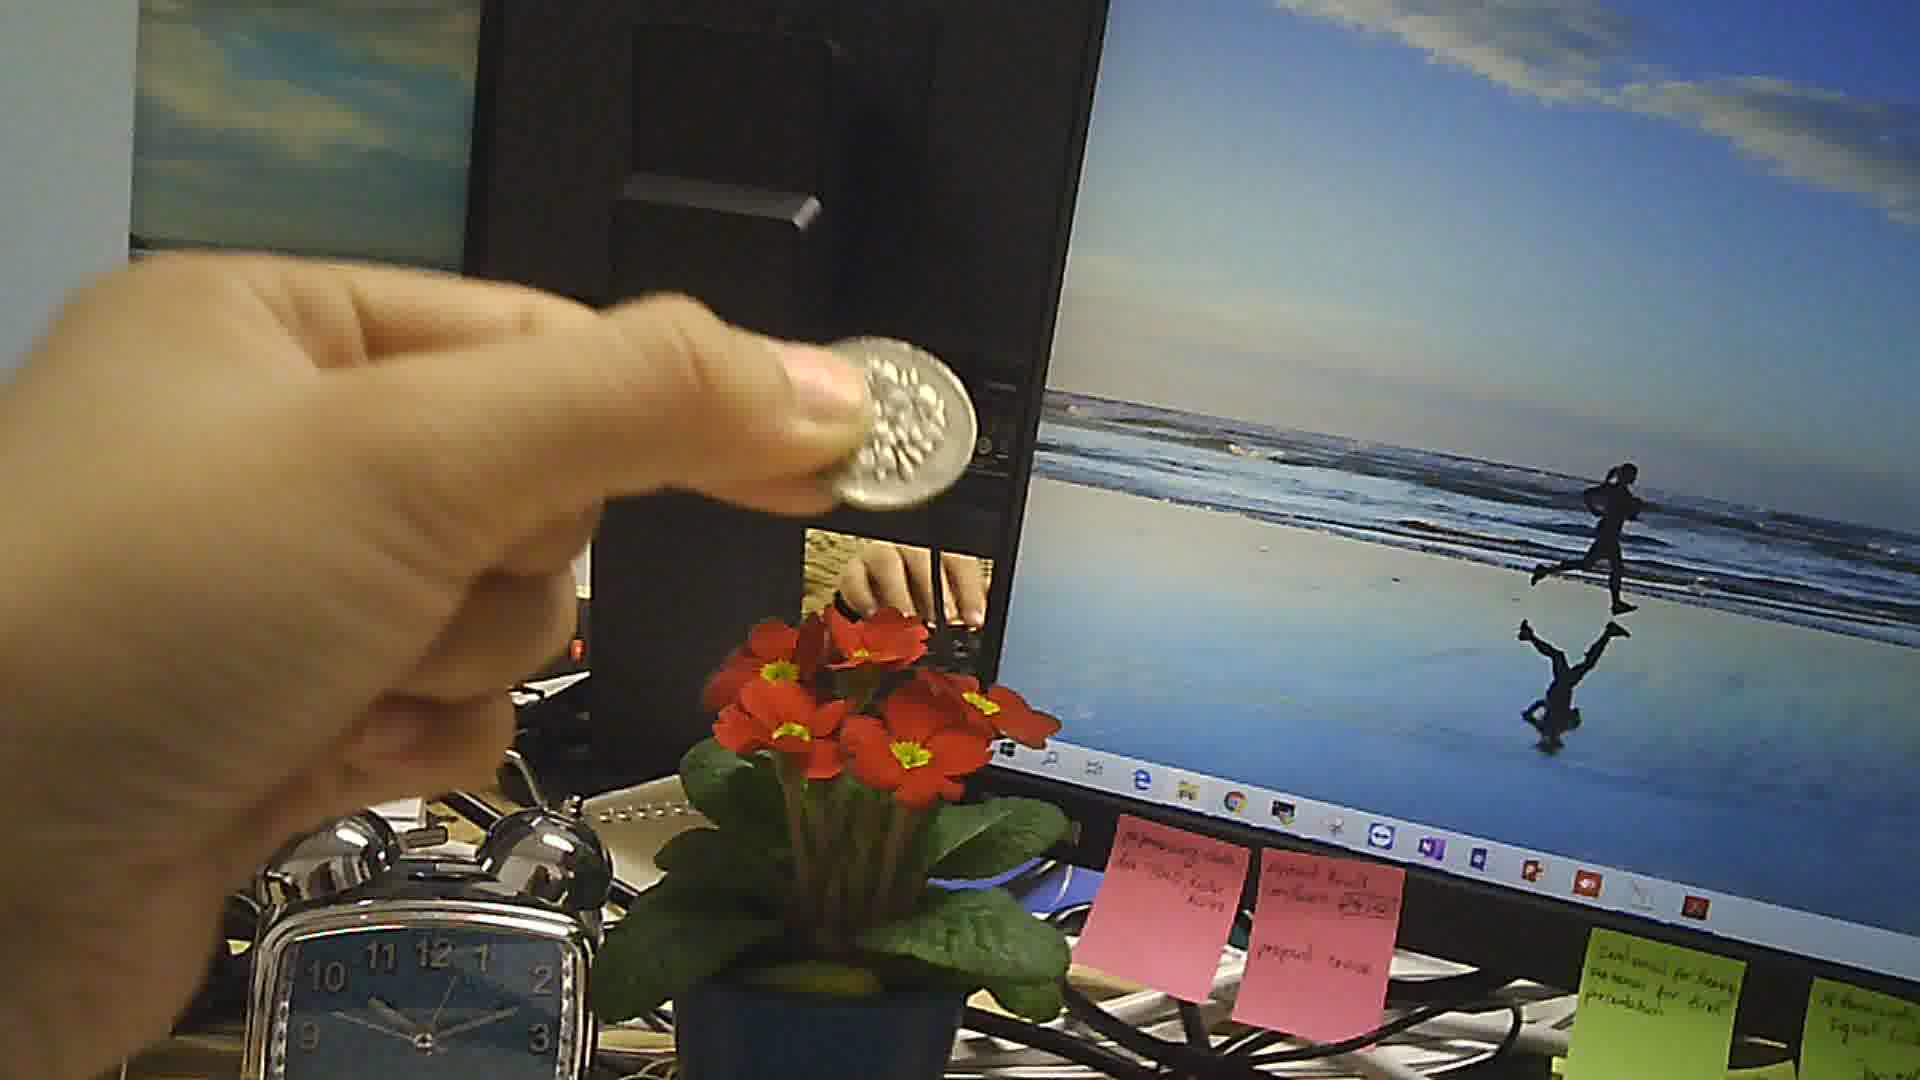100 Yen: (798, 328, 980, 512)
